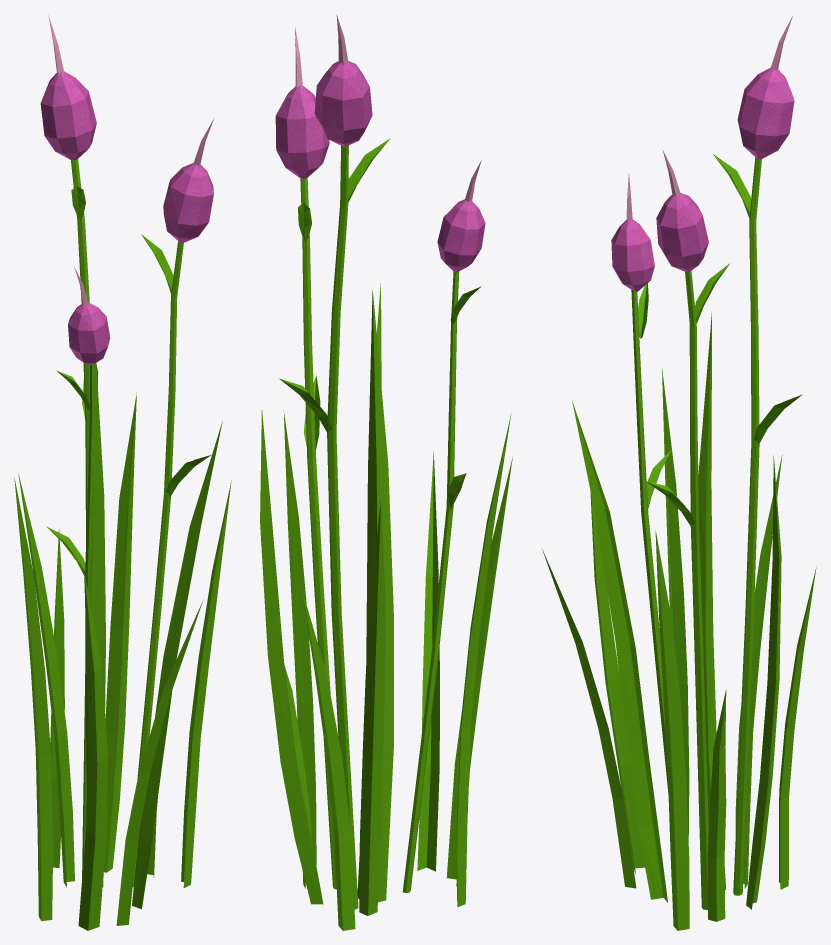
The model's file is PuffReed3_Pink.fbx.
3 views of the same model, side by side, from view 1: azimuth 30°, elevation 25°; view 2: azimuth 150°, elevation 25°; view 3: azimuth 270°, elevation 25° (orthographic). The views are drawn at different scales.
Parts seen in each view (by area): view 1: Mesh; view 2: Mesh; view 3: Mesh.
Part boxes in pixels (x1,y1,x2,y2): Mesh: (14, 15, 231, 930); Mesh: (260, 15, 512, 930); Mesh: (542, 16, 816, 930).
Bounding box in the file's own units: 112 × 424 × 121.
